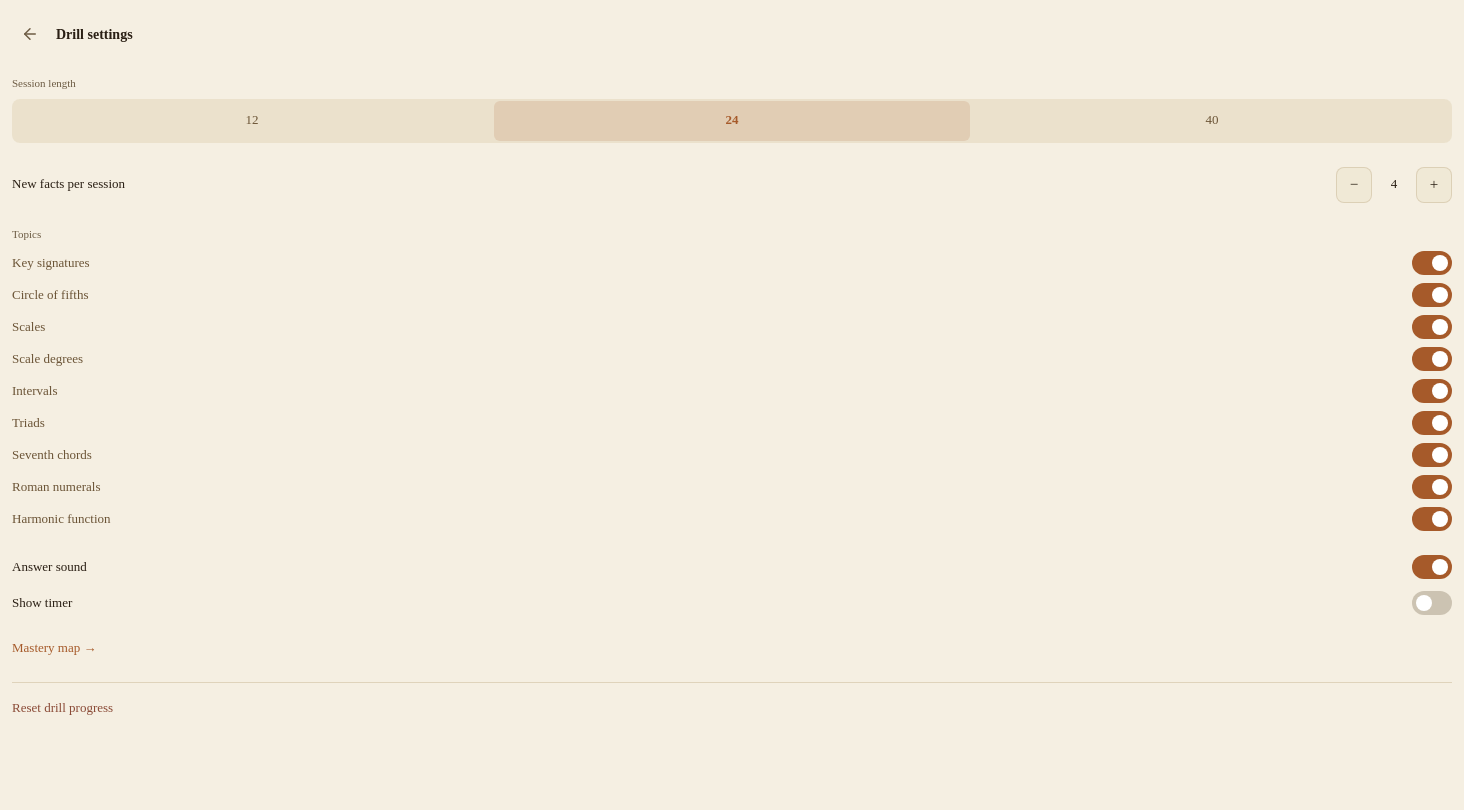
Test: DrillSettings › tapping the label shows the confirm block with warning + two buttons
Step 1. Click the button "Reset drill progress" → point(63, 708), box [12,699,113,718]
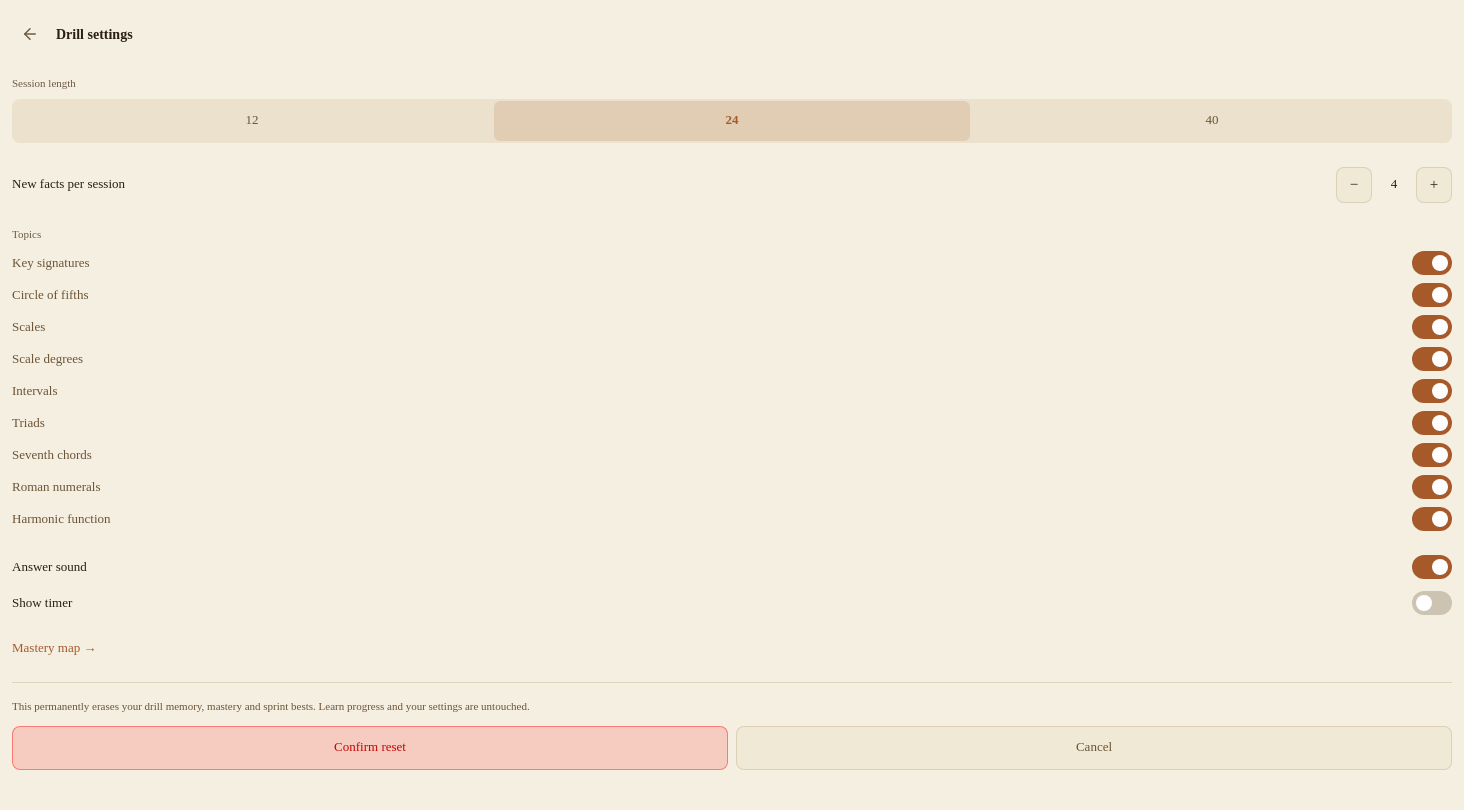
Now the button "Reset drill progress" is gone
Now the text "permanently erases" is shown, box [12,700,530,712]
Now the button "Confirm reset" is shown, box [12,726,728,770]
